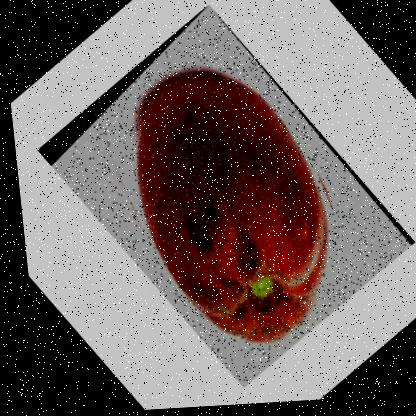tomato_rotten: (22, 0, 415, 400)
